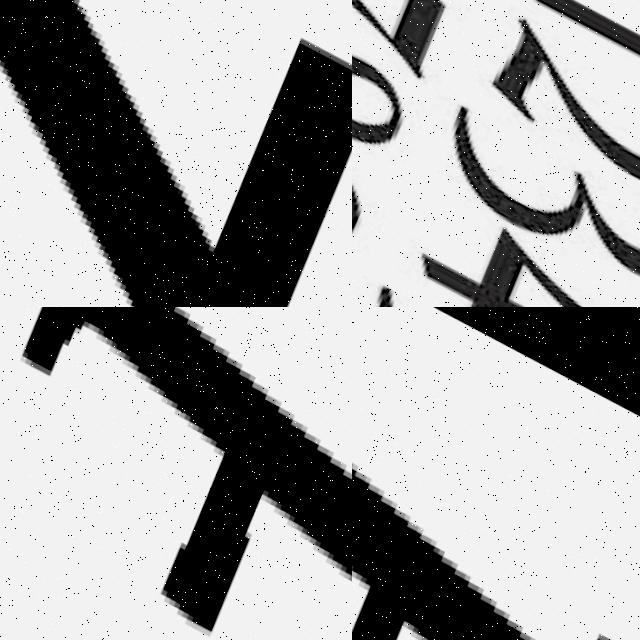1: (514, 0, 640, 99)
2: (472, 0, 640, 204)
3: (415, 87, 640, 298)
4: (393, 183, 640, 307)
5: (352, 268, 617, 307)
8: (352, 0, 424, 167)
F: (0, 307, 352, 640)
Z: (0, 0, 352, 307)
